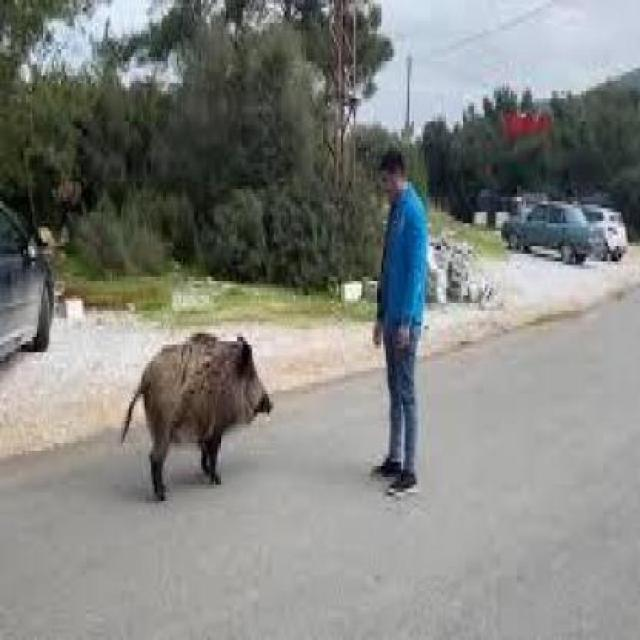wildboar: (114, 322, 280, 510)
